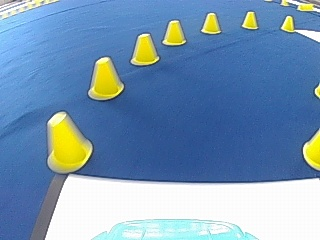cone: (45, 111, 92, 172), (87, 55, 124, 100), (130, 32, 160, 65), (162, 20, 186, 46), (303, 130, 319, 169), (200, 12, 221, 35), (241, 10, 258, 30), (280, 15, 295, 32)
